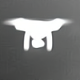plane: (2, 16, 74, 52)
